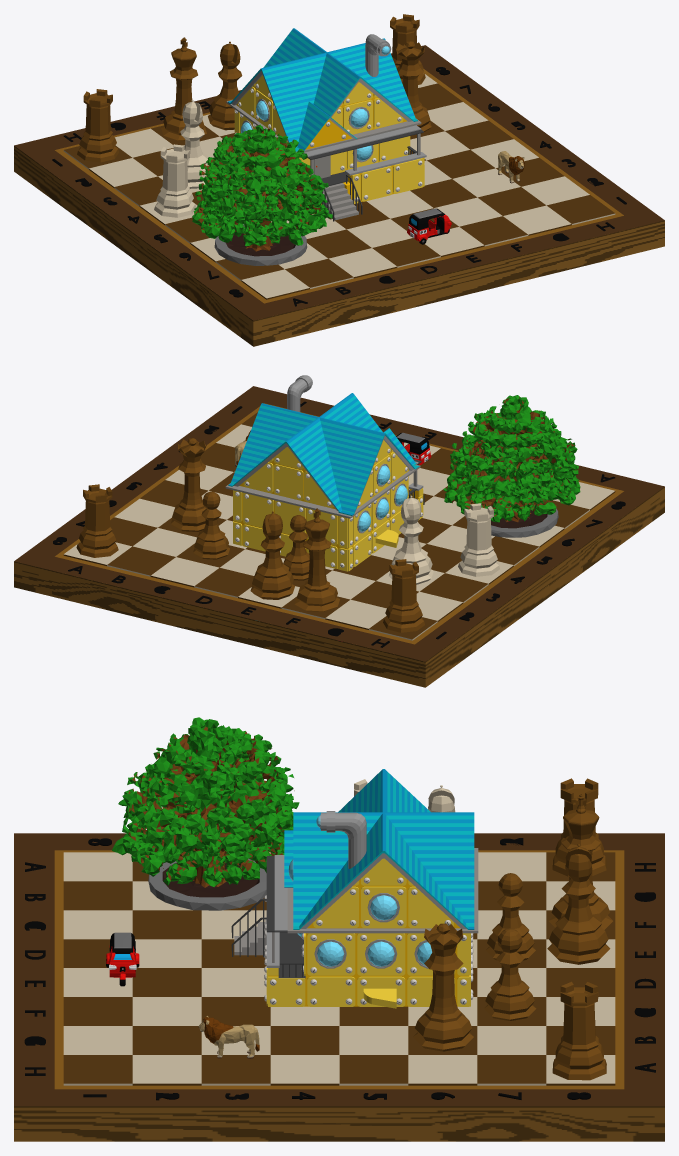
3 views of the same model, one above another, from view 1: azimuth 30°, elevation 25°; view 2: azimuth 150°, elevation 25°; view 3: azimuth 270°, elevation 25° (orthographic). The views are drawn at different scales.
Parts seen in each view (by area): view 1: Cube.002, Cube.1366, OBJRANDOM_CEIBA, VEHICLES_TUC_TUC, ANIMAL_LEON; view 2: Cube.002, Cube.1366, OBJRANDOM_CEIBA, VEHICLES_TUC_TUC; view 3: Cube.002, Cube.1366, OBJRANDOM_CEIBA, ANIMAL_LEON, VEHICLES_TUC_TUC.
Part boxes in pixels (x1,y1,x2,y2): Cube.002: [14, 14, 664, 346]; Cube.1366: [226, 28, 426, 221]; OBJRANDOM_CEIBA: [192, 124, 332, 265]; VEHICLES_TUC_TUC: [407, 208, 451, 244]; ANIMAL_LEON: [498, 151, 524, 183]; Cube.002: [14, 386, 664, 687]; Cube.1366: [225, 375, 424, 571]; OBJRANDOM_CEIBA: [443, 395, 580, 537]; VEHICLES_TUC_TUC: [396, 432, 431, 465]; Cube.002: [14, 778, 664, 1141]; Cube.1366: [231, 769, 478, 1008]; OBJRANDOM_CEIBA: [112, 717, 299, 910]; ANIMAL_LEON: [198, 1016, 259, 1058]; VEHICLES_TUC_TUC: [106, 932, 139, 986].
Bounding box in the file's own units: 3981 × 1549 × 4012.
Materials: 40 (2 with a texture image).
